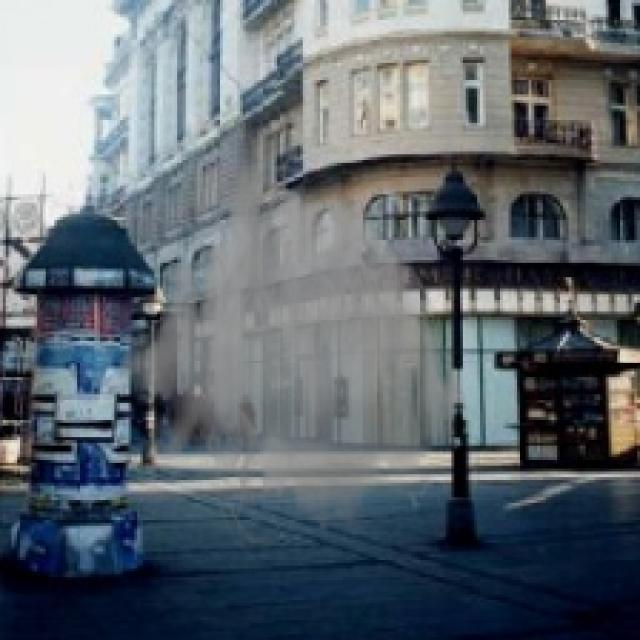Smoke: (114, 146, 466, 563)
